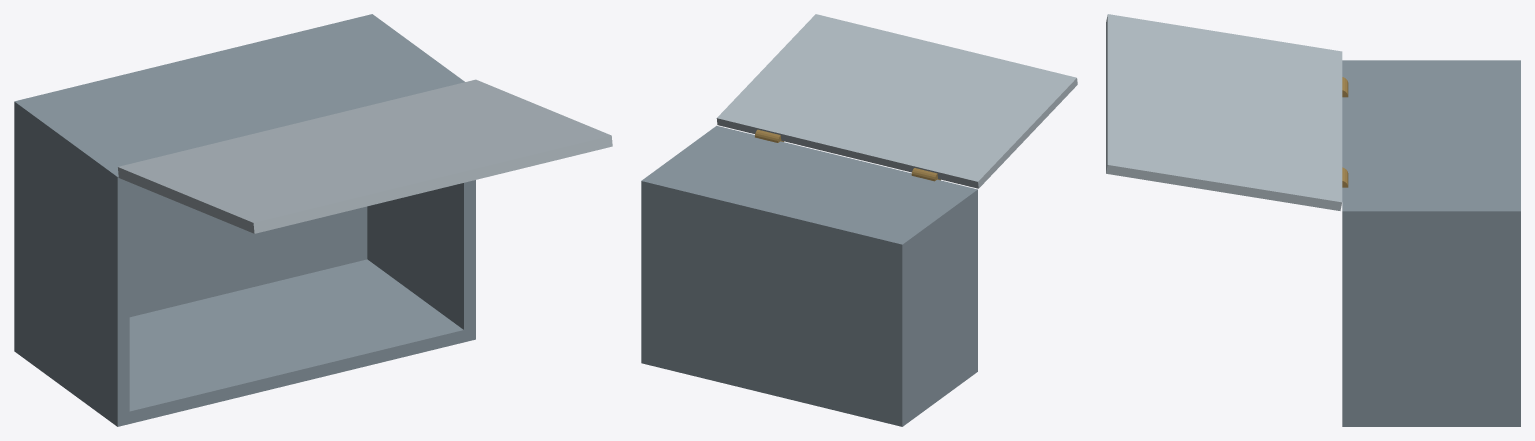
File: p01-open-lid-v2.obj
3 renders of one model, left to right at view 1: azimuth 30°, elevation 25°; view 2: azimuth 150°, elevation 25°; view 3: azimuth 270°, elevation 25°, orthographic. The views are drawn at different scales.
Parts seen in each view (by area): view 1: lid_shell, front_wall, rear_wall, left_wall, base, right_wall; view 2: base, lid_shell, rear_wall, left_wall, front_wall; view 3: lid_shell, right_wall, rear_wall, base, front_wall.
Boxes of the visible parts, <box> form: lid_shell: <box>118,79,612,233</box>; front_wall: <box>21,259,475,426</box>; rear_wall: <box>21,19,464,189</box>; left_wall: <box>21,119,129,414</box>; base: <box>14,14,378,355</box>; right_wall: <box>367,180,475,329</box>; base: <box>641,177,907,426</box>; lid_shell: <box>716,14,1077,188</box>; rear_wall: <box>646,125,977,249</box>; left_wall: <box>907,199,977,413</box>; front_wall: <box>907,363,977,422</box>; lid_shell: <box>1106,14,1342,210</box>; right_wall: <box>1342,222,1508,416</box>; rear_wall: <box>1342,60,1508,221</box>; base: <box>1509,60,1520,426</box>; front_wall: <box>1342,416,1508,426</box>.
Bounding box in the file's own units: 36 × 29.15 × 41.84.
